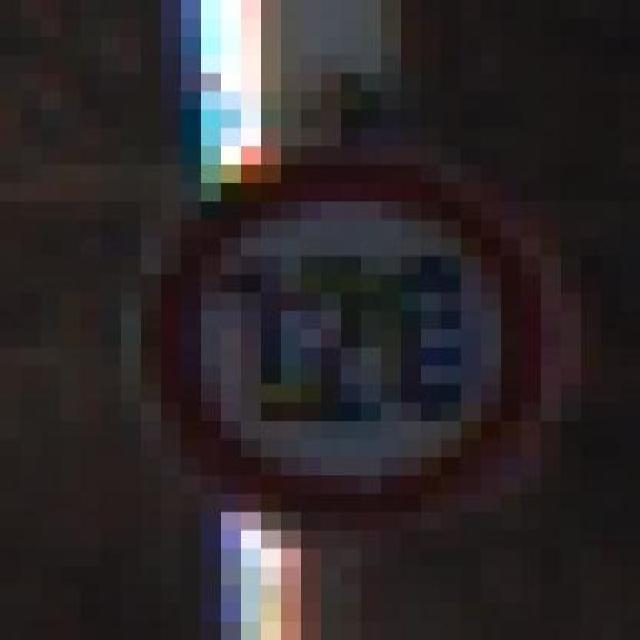forb_speed_over_120: (156, 152, 536, 518)
